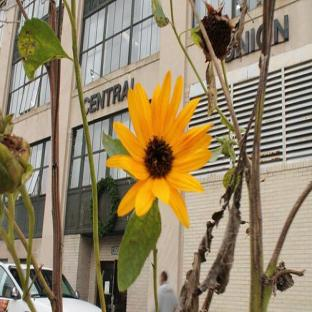sunflower: (101, 70, 214, 312)
